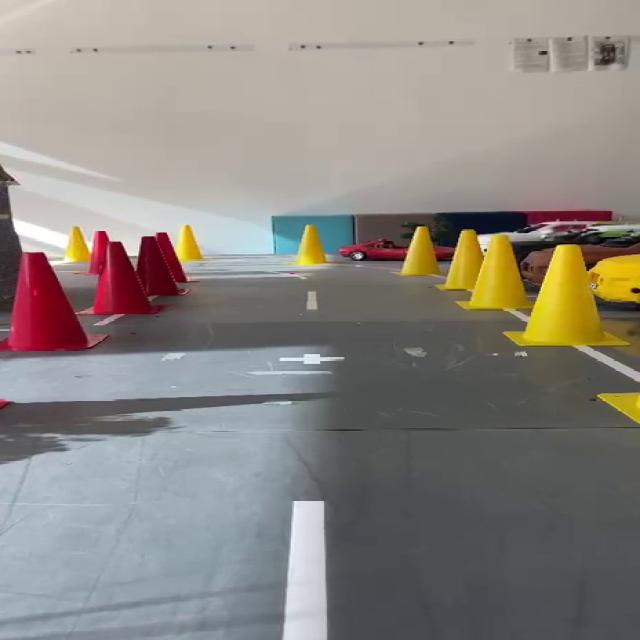Cone-red: (0, 253, 105, 351), (81, 236, 186, 315), (88, 230, 109, 275), (0, 398, 10, 408)
Cones-yellow: (505, 245, 628, 346), (459, 235, 528, 309), (440, 230, 483, 290), (401, 228, 436, 274), (597, 392, 639, 424), (295, 225, 327, 264), (174, 225, 203, 263), (65, 227, 92, 265)
